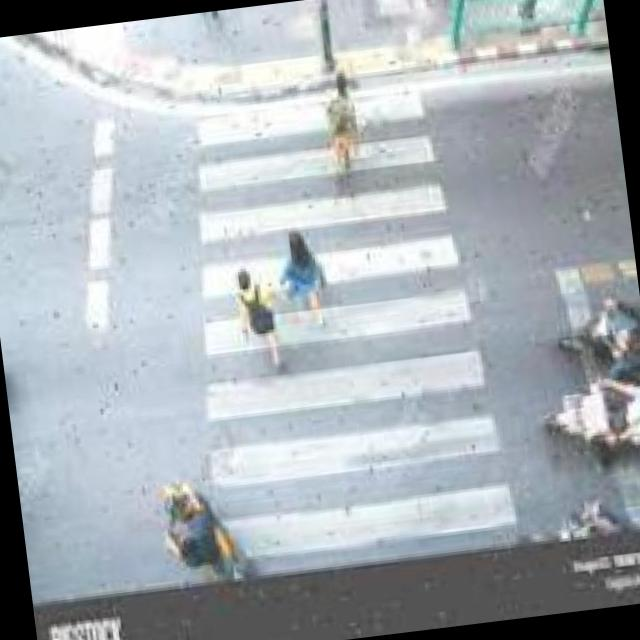zebra: (174, 74, 518, 565)
